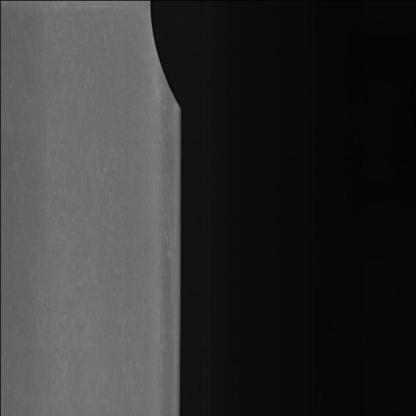crescent_gap: (140, 1, 190, 121)
